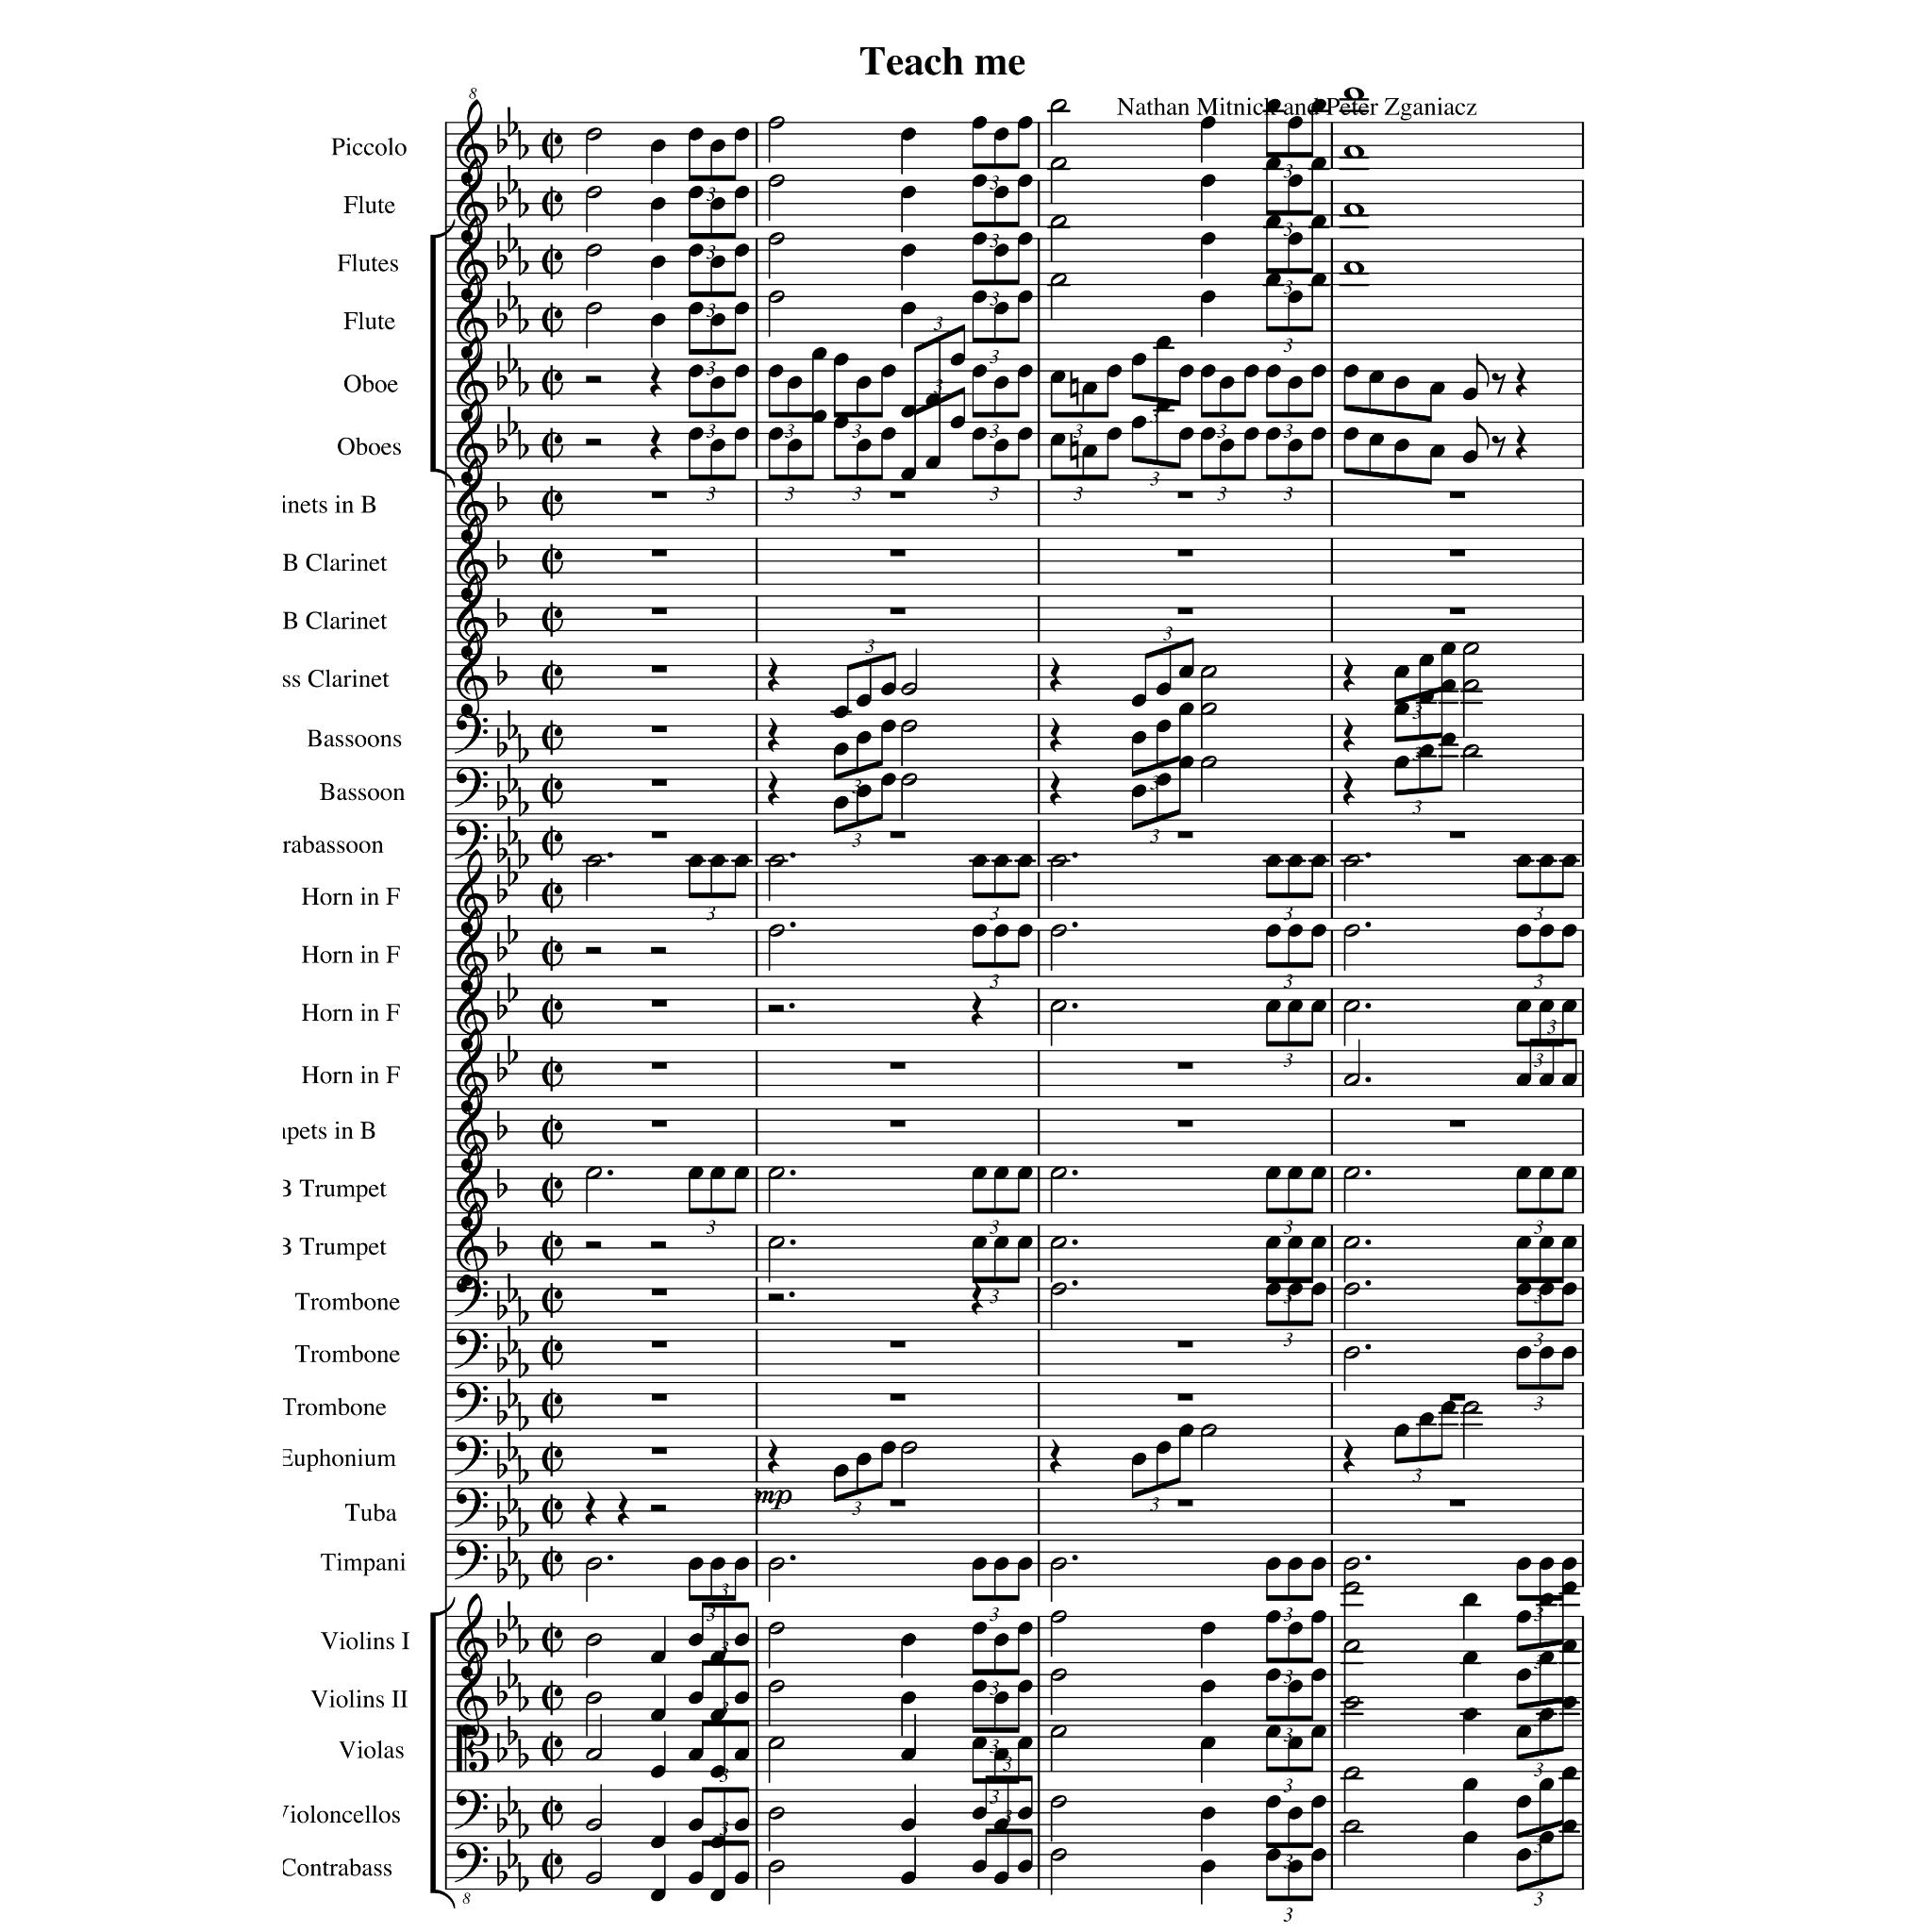fClef: (453, 713, 488, 754), (453, 768, 488, 809), (453, 819, 488, 860), (453, 1789, 488, 1829), (453, 1842, 488, 1882), (453, 1277, 488, 1318), (453, 1329, 488, 1369), (453, 1382, 488, 1422), (453, 1435, 488, 1476), (453, 1488, 488, 1529), (453, 1539, 488, 1580)
flag8thUp: (1476, 418, 1490, 451), (1476, 354, 1490, 387)
gClef: (456, 906, 488, 996), (456, 964, 488, 1054), (456, 847, 488, 936), (456, 1028, 488, 1116), (456, 1085, 488, 1173), (456, 274, 488, 363), (456, 336, 488, 425), (456, 398, 488, 487), (456, 456, 488, 545), (456, 515, 488, 603), (456, 573, 488, 662), (456, 630, 488, 718), (456, 1594, 488, 1683), (456, 1651, 488, 1739), (456, 1143, 488, 1231), (456, 1201, 488, 1290), (456, 216, 488, 304), (456, 99, 488, 188), (456, 157, 488, 246)
noteheadBlack: (686, 364, 704, 379), (686, 855, 704, 869), (686, 1166, 704, 1180), (686, 1817, 704, 1831), (686, 1872, 704, 1886), (686, 186, 704, 200), (1343, 364, 1359, 379), (1311, 1723, 1327, 1737), (1311, 272, 1327, 287), (1311, 364, 1327, 379), (1311, 855, 1327, 869), (1311, 1166, 1327, 1180), (1311, 1235, 1327, 1249), (1311, 1610, 1327, 1624), (1200, 115, 1215, 129), (1200, 173, 1215, 188), (1200, 232, 1215, 246), (1200, 290, 1215, 304), (1200, 364, 1215, 379), (1200, 1679, 1215, 1693), (1200, 1736, 1215, 1750), (1200, 1806, 1215, 1821), (1244, 364, 1260, 379), (1155, 336, 1171, 350), (1155, 683, 1171, 697), (1155, 773, 1171, 787), (1155, 1440, 1171, 1454), (1131, 352, 1146, 366), (1131, 416, 1146, 430), (1131, 694, 1146, 708), (1131, 731, 1146, 745), (1131, 784, 1146, 798), (1131, 1453, 1146, 1467), (1178, 755, 1194, 770), (1178, 702, 1194, 717), (1178, 364, 1194, 379), (1288, 115, 1304, 129), (1288, 173, 1304, 188), (1288, 232, 1304, 246), (1288, 290, 1304, 304), (1288, 855, 1304, 869), (1288, 1166, 1304, 1180), (1288, 1235, 1304, 1249), (1288, 1679, 1304, 1693), (1288, 1736, 1304, 1750), (1288, 1806, 1304, 1821), (1265, 1235, 1281, 1249), (1265, 272, 1281, 287), (1265, 364, 1281, 379), (1265, 855, 1281, 869), (1265, 1166, 1281, 1180), (1265, 1610, 1281, 1624), (1265, 1723, 1281, 1737), (1461, 387, 1477, 402), (1461, 449, 1477, 464), (1461, 1592, 1477, 1606), (1461, 1651, 1477, 1665), (1461, 1707, 1477, 1721), (1461, 1778, 1477, 1792), (1516, 1166, 1532, 1180), (1516, 1235, 1532, 1249), (1516, 1610, 1532, 1624), (1516, 1723, 1532, 1737), (1516, 855, 1532, 869), (1394, 702, 1410, 717), (1394, 755, 1410, 770), (1440, 1401, 1456, 1415), (1440, 642, 1456, 656), (1440, 732, 1456, 747), (1419, 690, 1435, 704), (1419, 1412, 1435, 1426), (1430, 444, 1445, 458), (1560, 855, 1576, 869), (1560, 1166, 1576, 1180), (1560, 1235, 1576, 1249), (1560, 1695, 1576, 1709), (1537, 855, 1553, 869), (1537, 1166, 1553, 1180), (1537, 1235, 1553, 1249), (1537, 1592, 1553, 1606), (1537, 1651, 1553, 1665), (1537, 1707, 1553, 1721), (1537, 1778, 1553, 1792), (709, 196, 725, 211), (709, 255, 725, 269), (709, 855, 725, 869), (709, 1166, 725, 1180), (709, 1888, 725, 1902), (768, 364, 784, 379), (651, 196, 667, 211), (651, 255, 667, 269), (651, 1888, 667, 1902), (1017, 1166, 1033, 1180), (1017, 1235, 1033, 1249), (1017, 1679, 1033, 1693), (1017, 1736, 1033, 1750), (1017, 1806, 1033, 1821), (1017, 855, 1033, 869), (1017, 115, 1033, 129), (1017, 173, 1033, 188), (1017, 232, 1033, 246), (1017, 290, 1033, 304), (1017, 364, 1033, 379), (1081, 444, 1097, 458), (1106, 364, 1122, 379), (881, 773, 897, 787), (881, 1440, 897, 1454), (881, 683, 897, 697), (881, 364, 897, 379), (901, 467, 916, 481), (901, 186, 916, 200), (901, 403, 916, 418), (901, 1817, 916, 1831), (901, 1872, 916, 1886), (810, 347, 826, 361), (810, 410, 826, 425), (855, 694, 870, 708), (855, 731, 870, 745), (855, 784, 870, 798), (855, 1453, 870, 1467), (833, 352, 849, 366), (833, 416, 849, 430), (833, 741, 849, 755), (833, 796, 849, 810), (993, 186, 1008, 200), (993, 855, 1008, 869), (993, 1166, 1008, 1180), (993, 1235, 1008, 1249), (993, 1817, 1008, 1831), (993, 1872, 1008, 1886), (950, 352, 966, 366), (950, 416, 966, 430), (925, 393, 941, 407), (925, 456, 941, 471), (971, 1679, 987, 1693), (971, 1736, 987, 1750), (971, 1806, 987, 1821), (971, 290, 987, 304), (971, 115, 987, 129), (971, 173, 987, 188), (971, 232, 987, 246), (971, 364, 987, 379), (971, 855, 987, 869), (971, 1166, 987, 1180), (971, 1235, 987, 1249), (686, 303, 704, 315), (686, 428, 704, 441), (686, 1557, 704, 1569), (686, 1633, 704, 1645), (686, 1691, 704, 1704), (686, 1748, 704, 1760), (686, 244, 704, 257), (686, 127, 704, 140), (734, 186, 748, 200), (734, 364, 748, 379), (734, 855, 748, 869), (734, 1166, 748, 1180), (734, 1817, 748, 1831), (734, 1872, 748, 1886), (1343, 428, 1359, 441), (1311, 1796, 1327, 1808), (1311, 1849, 1327, 1861), (1311, 99, 1327, 111), (1311, 157, 1327, 170), (1311, 216, 1327, 228), (1311, 428, 1327, 441), (1311, 925, 1327, 938), (1311, 1000, 1327, 1012), (1311, 1283, 1327, 1295), (1311, 1557, 1327, 1569), (1311, 1668, 1327, 1681), (1200, 428, 1215, 441), (1200, 1622, 1215, 1635), (1200, 1859, 1215, 1872), (1219, 377, 1235, 389), (1219, 439, 1235, 451), (1244, 428, 1260, 441), (1155, 400, 1171, 412), (1155, 720, 1171, 732), (1178, 1424, 1194, 1437), (1178, 428, 1194, 441), (1178, 665, 1194, 678), (1288, 925, 1304, 938), (1288, 377, 1304, 389), (1288, 439, 1304, 451), (1288, 1000, 1304, 1012), (1288, 1283, 1304, 1295), (1288, 1557, 1304, 1569), (1288, 1622, 1304, 1635), (1288, 1859, 1304, 1872), (1265, 99, 1281, 111), (1265, 157, 1281, 170), (1265, 216, 1281, 228), (1265, 428, 1281, 441), (1265, 925, 1281, 938), (1265, 1000, 1281, 1012), (1265, 1283, 1281, 1295), (1265, 1557, 1281, 1569), (1265, 1668, 1281, 1681), (1265, 1796, 1281, 1808), (1265, 1849, 1281, 1861), (1461, 1831, 1477, 1844), (1516, 1074, 1532, 1086), (1516, 1283, 1532, 1295), (1516, 1346, 1532, 1359), (1516, 1557, 1532, 1569), (1516, 1668, 1532, 1681), (1516, 1796, 1532, 1808), (1516, 1849, 1532, 1861), (1516, 1000, 1532, 1012), (1516, 925, 1532, 938), (1368, 372, 1384, 384), (1368, 433, 1384, 446), (1419, 655, 1435, 667), (1394, 377, 1410, 389), (1394, 439, 1410, 451), (1394, 665, 1410, 678), (1394, 1424, 1410, 1437), (1440, 679, 1456, 692), (1419, 745, 1435, 757), (1430, 382, 1445, 395), (1560, 925, 1576, 938), (1560, 1000, 1576, 1012), (1560, 1074, 1576, 1086), (1560, 1283, 1576, 1295), (1560, 1346, 1576, 1359), (1560, 1557, 1576, 1569), (1560, 1582, 1576, 1594), (1560, 1640, 1576, 1652), (1560, 1767, 1576, 1780), (1560, 1821, 1576, 1833), (1537, 1000, 1553, 1012), (1537, 925, 1553, 938), (1537, 1074, 1553, 1086), (1537, 1283, 1553, 1295), (1537, 1346, 1553, 1359), (1537, 1557, 1553, 1569), (1537, 1831, 1553, 1844), (709, 1709, 725, 1721), (709, 140, 725, 152), (709, 313, 725, 326), (709, 377, 725, 389), (709, 439, 725, 451), (709, 1557, 725, 1569), (709, 1651, 725, 1663), (709, 1766, 725, 1778), (709, 1836, 725, 1849), (768, 428, 784, 441), (651, 140, 667, 152), (651, 313, 667, 326), (651, 1651, 667, 1663), (651, 1709, 667, 1721), (651, 1766, 667, 1778), (651, 1836, 667, 1849), (1049, 372, 1065, 384), (1049, 433, 1065, 446), (1017, 925, 1033, 938), (1017, 1557, 1033, 1569), (1017, 1622, 1033, 1635), (1017, 1859, 1033, 1872), (1017, 428, 1033, 441), (1081, 382, 1097, 395), (1106, 428, 1122, 441), (881, 720, 897, 732), (881, 428, 897, 441), (901, 127, 916, 140), (901, 244, 916, 257), (901, 303, 916, 315), (901, 1633, 916, 1645), (901, 1691, 916, 1704), (901, 1748, 916, 1760), (786, 377, 801, 389), (786, 439, 801, 451), (855, 377, 870, 389), (855, 439, 870, 451), (833, 706, 849, 718), (833, 1465, 849, 1477), (993, 1557, 1008, 1569), (993, 127, 1008, 140), (993, 244, 1008, 257), (993, 303, 1008, 315), (993, 377, 1008, 389), (993, 439, 1008, 451), (993, 925, 1008, 938), (993, 1633, 1008, 1645), (993, 1691, 1008, 1704), (993, 1748, 1008, 1760), (971, 1557, 987, 1569), (971, 1622, 987, 1635), (971, 1859, 987, 1872), (971, 428, 987, 441), (971, 925, 987, 938), (734, 428, 748, 441), (734, 127, 748, 140), (734, 244, 748, 257), (734, 303, 748, 315), (734, 1557, 748, 1569), (734, 1633, 748, 1645), (734, 1691, 748, 1704), (734, 1748, 748, 1760)
noteheadHalf: (1343, 855, 1361, 869), (1343, 1166, 1361, 1180), (1343, 1235, 1361, 1249), (1343, 1695, 1361, 1709), (1200, 702, 1217, 717), (1200, 755, 1217, 770), (1461, 1401, 1479, 1415), (1461, 642, 1479, 656), (768, 1679, 786, 1693), (768, 1736, 786, 1750), (768, 1806, 786, 1821), (768, 1235, 786, 1249), (768, 117, 786, 131), (768, 290, 786, 304), (768, 855, 786, 869), (768, 1166, 786, 1180), (1049, 1610, 1067, 1624), (1049, 1723, 1067, 1737), (1049, 272, 1067, 287), (1049, 855, 1067, 869), (1049, 1166, 1067, 1180), (1049, 1235, 1067, 1249), (901, 683, 918, 697), (901, 773, 918, 787), (901, 1440, 918, 1454), (586, 855, 602, 869), (586, 1166, 602, 1180), (586, 1817, 602, 1831), (586, 186, 602, 200), (1343, 1557, 1361, 1569), (1343, 1346, 1361, 1359), (1343, 1283, 1361, 1295), (1343, 925, 1361, 938), (1343, 1000, 1361, 1012), (1343, 1074, 1361, 1086), (1343, 1821, 1361, 1833), (1343, 1767, 1361, 1780), (1343, 1640, 1361, 1652), (1343, 1582, 1361, 1594), (1200, 665, 1217, 678), (1200, 1424, 1217, 1437), (1461, 679, 1479, 692), (1461, 745, 1479, 757), (768, 1557, 786, 1569), (768, 1622, 786, 1635), (768, 1859, 786, 1872), (768, 175, 786, 188), (768, 234, 786, 246), (768, 925, 786, 938), (1049, 1557, 1067, 1569), (1049, 1668, 1067, 1681), (1049, 1796, 1067, 1808), (1049, 1849, 1067, 1861), (1049, 216, 1067, 228), (1049, 99, 1067, 111), (1049, 157, 1067, 170), (1049, 925, 1067, 938), (1049, 1000, 1067, 1012), (1049, 1283, 1067, 1295), (901, 720, 918, 732), (586, 303, 602, 315), (586, 1633, 602, 1645), (586, 1691, 602, 1704), (586, 1748, 602, 1760), (586, 1872, 602, 1884), (586, 1557, 602, 1569), (586, 127, 602, 140), (586, 244, 602, 257)
noteheadWhole: (1343, 260, 1364, 274), (1343, 203, 1364, 218), (1343, 87, 1364, 101), (1343, 145, 1364, 159)
rest8th: (1491, 435, 1507, 458), (1491, 373, 1507, 395)
restHalf: (651, 1504, 667, 1513), (768, 1293, 784, 1300), (768, 1005, 784, 1012), (586, 947, 602, 954), (586, 375, 602, 382), (586, 439, 602, 446), (586, 1242, 602, 1249), (651, 947, 667, 954), (651, 1242, 667, 1249)
restQuarter: (584, 1490, 596, 1527), (617, 1490, 630, 1527), (971, 991, 984, 1028), (1343, 656, 1355, 692), (1343, 1438, 1355, 1474), (1343, 717, 1355, 752), (1343, 771, 1355, 807), (1516, 363, 1529, 398), (1516, 425, 1529, 460), (768, 1438, 780, 1474), (768, 656, 780, 692), (768, 717, 780, 752), (768, 771, 780, 807), (649, 363, 662, 398), (649, 425, 662, 460), (1049, 1438, 1062, 1474), (1049, 656, 1062, 692), (1049, 717, 1062, 752), (1049, 771, 1062, 807), (971, 1281, 984, 1316)
restWhole: (890, 1499, 906, 1507), (890, 1062, 906, 1070), (890, 607, 906, 616), (890, 548, 906, 557), (1177, 1499, 1192, 1507), (1177, 1062, 1192, 1070), (1177, 607, 1192, 616), (1177, 548, 1192, 557), (651, 778, 667, 787), (651, 1062, 667, 1070), (651, 548, 667, 557), (651, 607, 667, 616), (1449, 548, 1465, 557), (1449, 607, 1465, 616), (1449, 1499, 1465, 1507), (651, 1288, 667, 1297), (890, 1394, 906, 1401), (890, 1341, 906, 1348), (890, 1120, 906, 1127), (890, 832, 906, 839), (890, 492, 906, 499), (1177, 1394, 1192, 1401), (1177, 1341, 1192, 1348), (1177, 1120, 1192, 1127), (1177, 832, 1192, 839), (1177, 492, 1192, 499), (651, 1000, 667, 1007), (651, 725, 667, 732), (651, 832, 667, 839), (651, 1120, 667, 1127), (651, 492, 667, 499), (651, 665, 667, 672), (1449, 1120, 1465, 1127), (1449, 492, 1465, 499), (1449, 832, 1465, 839), (1449, 1394, 1465, 1401), (651, 1341, 667, 1348), (651, 1394, 667, 1401), (651, 1447, 667, 1454)
